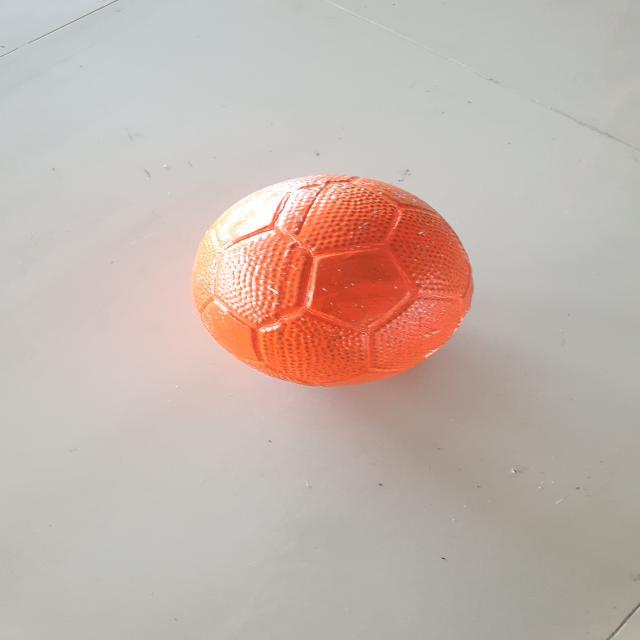bola: (180, 170, 502, 406)
